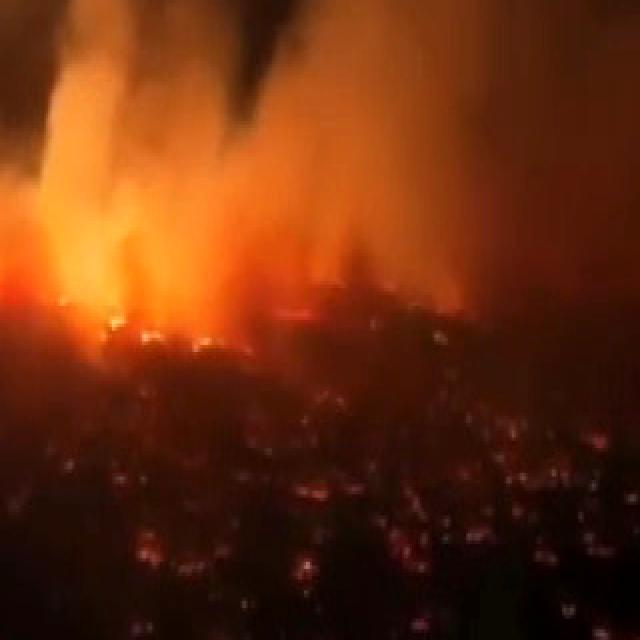smoke: (0, 0, 474, 277)
